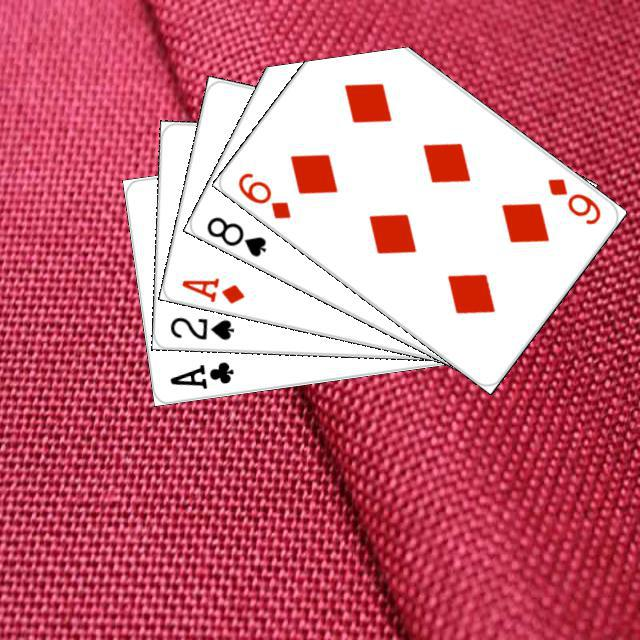2s: (165, 312, 236, 342)
6d: (232, 167, 293, 221), (542, 173, 603, 227)
8s: (201, 211, 268, 259)
Ac: (164, 356, 236, 391)
Ad: (176, 272, 247, 306)
